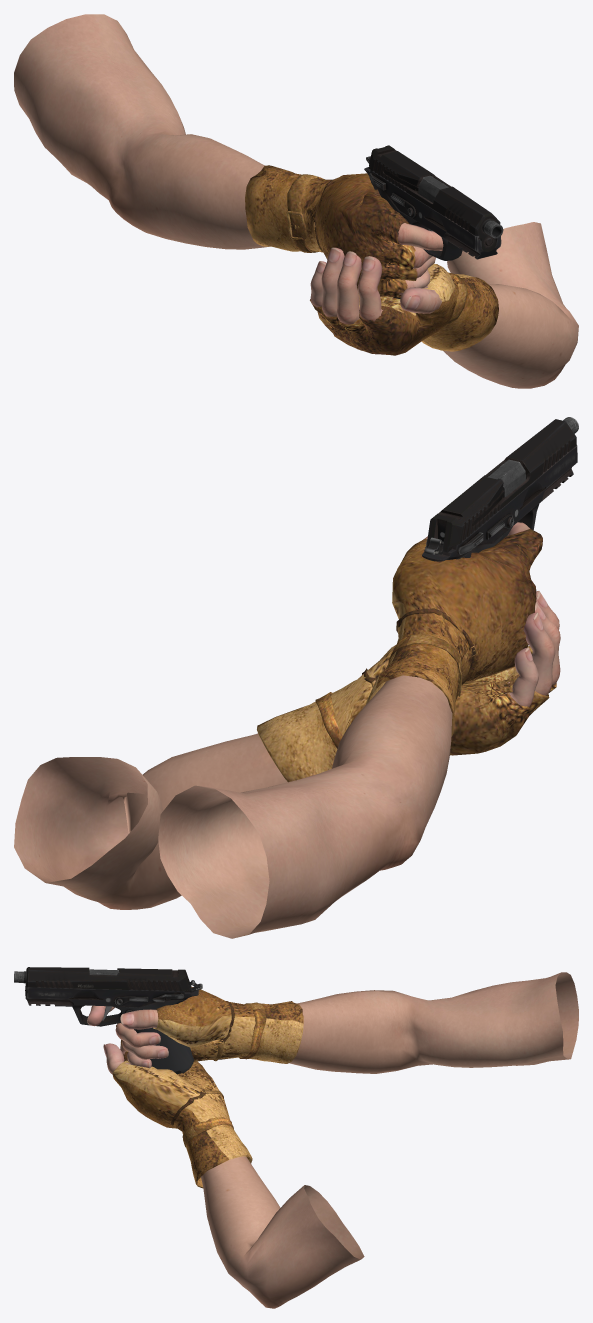
File: first_person_pistol_view.glb
3 views of the same model, one above another, from view 1: azimuth 30°, elevation 25°; view 2: azimuth 150°, elevation 25°; view 3: azimuth 270°, elevation 25° (orthographic). The views are drawn at different scales.
Visible parts, largest first — view 1: CC_Base_Body, Gloves, SKM_WP_Receiver_006_01_2, SKM_WP_Ragun_001_01_2, SM_WP_Barrel_014_01_2; view 2: CC_Base_Body, Gloves, SKM_WP_Receiver_006_01_2, SKM_WP_Ragun_001_01_2, SM_WP_Barrel_014_01_2; view 3: CC_Base_Body, Gloves, SKM_WP_Ragun_001_01_2, SKM_WP_Receiver_006_01_2.
Part boxes in pixels (<box>): CC_Base_Body: <box>14,14,578,388</box>; Gloves: <box>245,165,498,355</box>; SKM_WP_Receiver_006_01_2: <box>369,145,500,251</box>; SKM_WP_Ragun_001_01_2: <box>364,156,501,260</box>; SM_WP_Barrel_014_01_2: <box>418,175,503,238</box>; CC_Base_Body: <box>14,522,560,938</box>; Gloves: <box>257,529,556,782</box>; SKM_WP_Receiver_006_01_2: <box>427,419,576,552</box>; SKM_WP_Ragun_001_01_2: <box>422,445,577,561</box>; SM_WP_Barrel_014_01_2: <box>488,417,578,497</box>; CC_Base_Body: <box>87,972,578,1308</box>; Gloves: <box>112,986,303,1188</box>; SKM_WP_Ragun_001_01_2: <box>25,980,202,1073</box>; SKM_WP_Receiver_006_01_2: <box>25,967,191,995</box>.
Bounding box in the file's own units: 0.4176 × 0.3601 × 0.7105.
7 materials, 7 textured.
